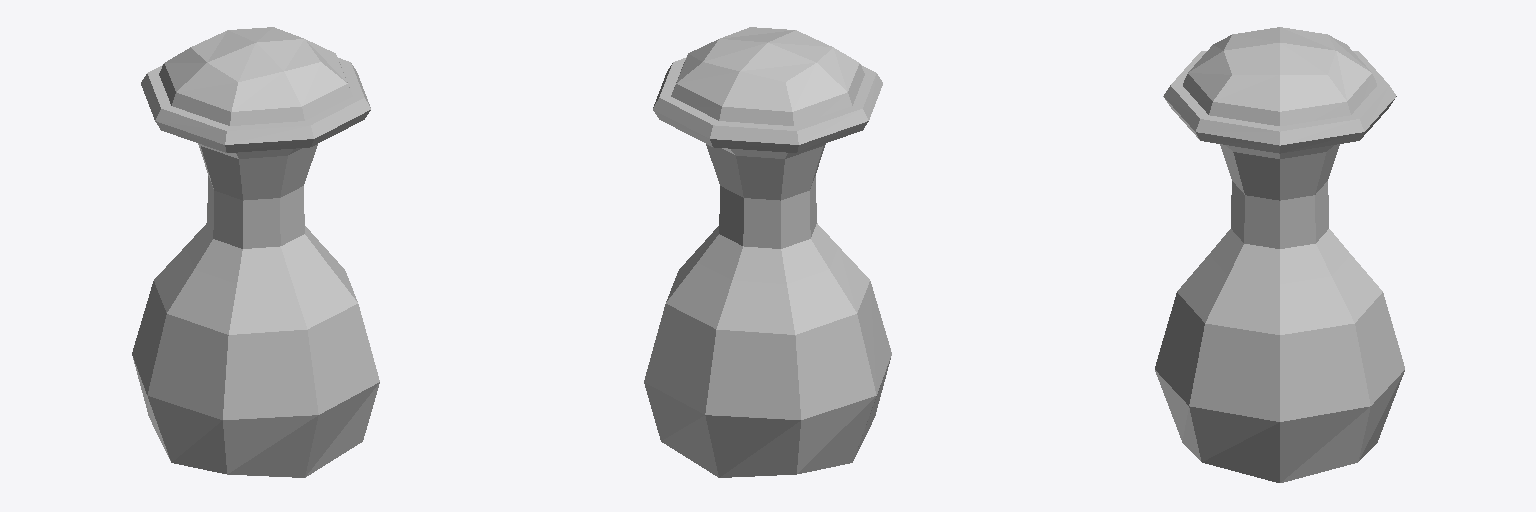
File: essence_tier_3.obj
The picture shows the model from 3 angles: view 1: azimuth 30°, elevation 25°; view 2: azimuth 150°, elevation 25°; view 3: azimuth 270°, elevation 25°; orthographic projection.
Parts seen in each view (by area): view 1: glass, diamond_lid, gold_lid; view 2: glass, diamond_lid, gold_lid; view 3: glass, diamond_lid, gold_lid.
Part boxes in pixels (x1,y1,x2,y2): glass: (132, 143, 379, 477); diamond_lid: (159, 27, 352, 125); gold_lid: (141, 57, 370, 152); glass: (644, 143, 891, 477); diamond_lid: (671, 27, 864, 125); gold_lid: (653, 57, 882, 152); glass: (1155, 144, 1404, 482); diamond_lid: (1183, 27, 1376, 125); gold_lid: (1163, 51, 1396, 153).
Size of the model in its own units: 0.2665 by 0.5 by 0.2665.